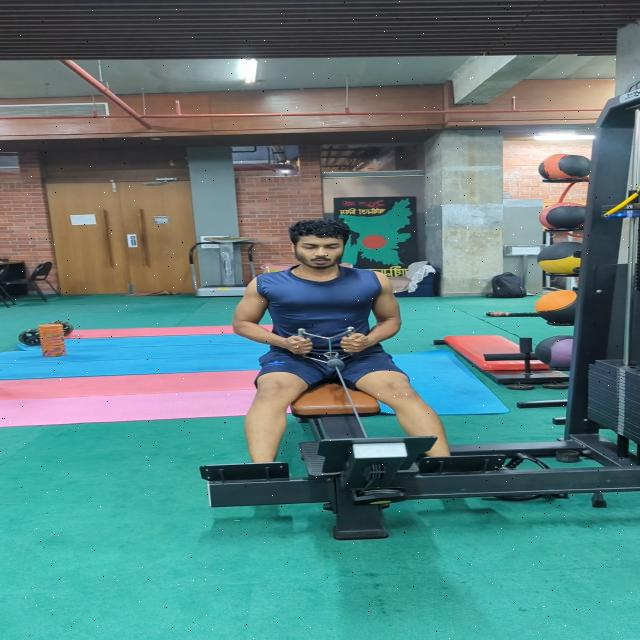Normal_RowingMachineExercise: (236, 212, 458, 472)
